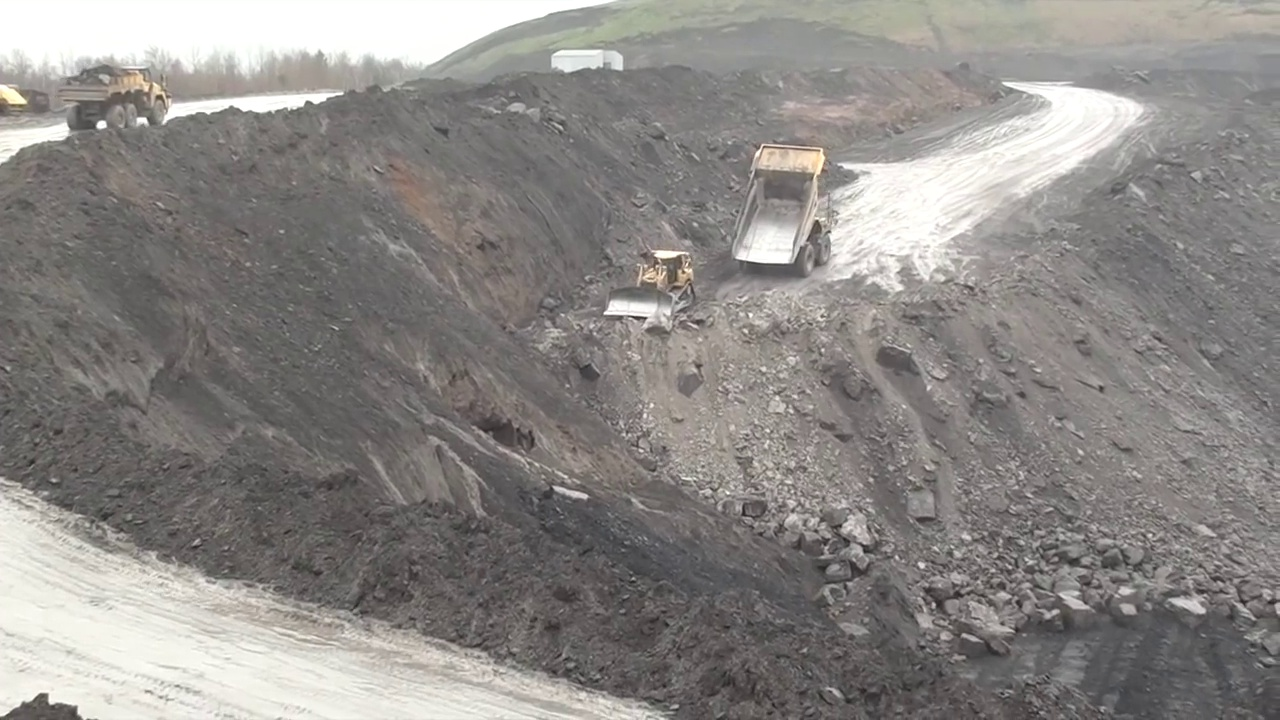dumper: (729, 143, 836, 278)
truck: (56, 62, 172, 128)
wheel loader: (601, 250, 704, 322)
